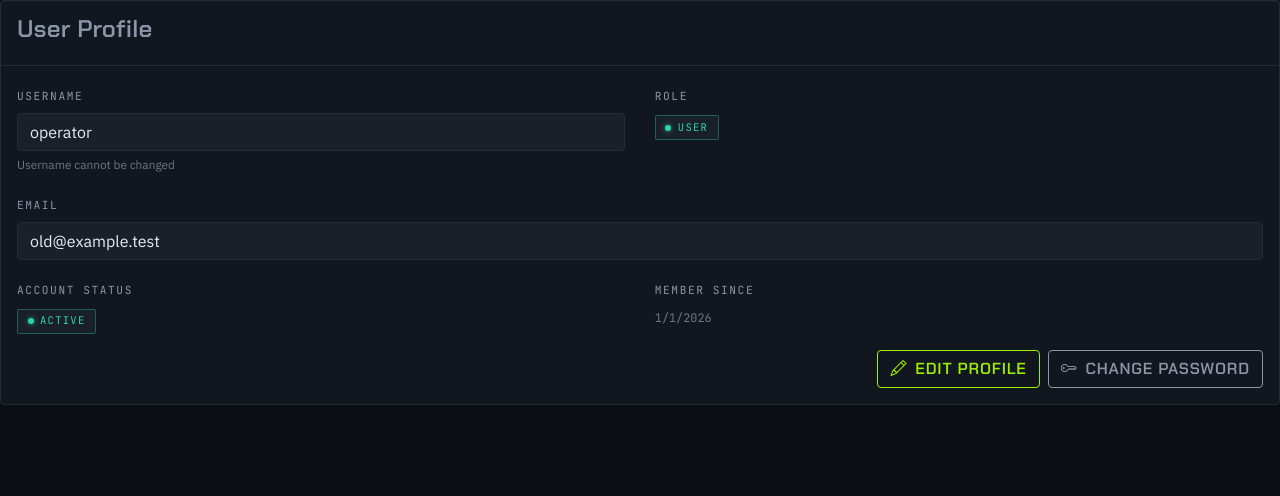
UserProfile › owns an email draft and only leaves edit mode after a successful update
The image size is (1280, 496).
Step 1. Click the button "Edit Profile" → (959, 369), box [878,350,1040,388]
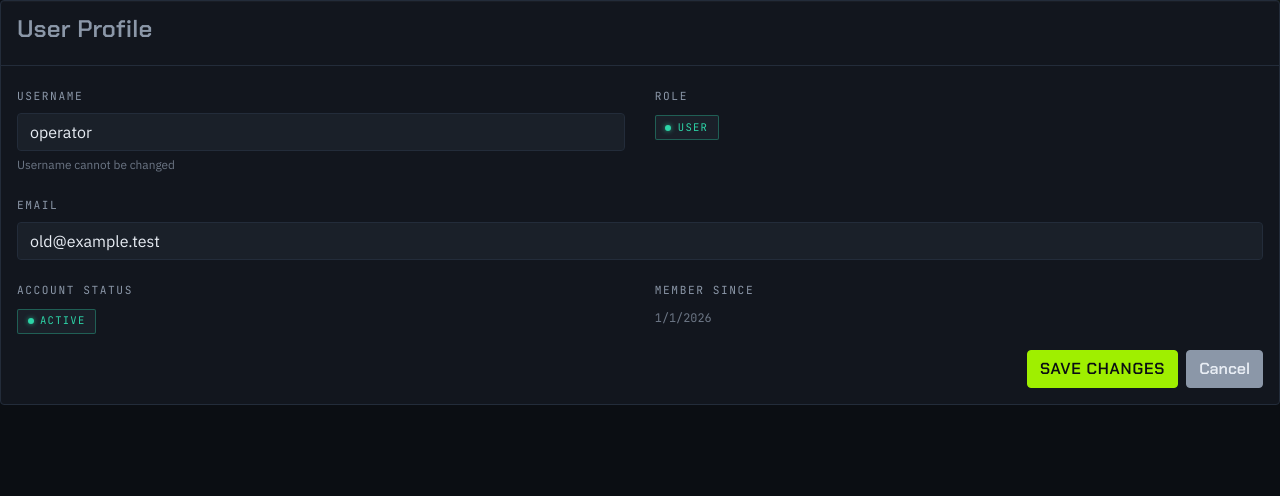
Step 2. Replace the text in the field labelled "Email" with "new@example.test" → (640, 241), box [17,222,1263,260]
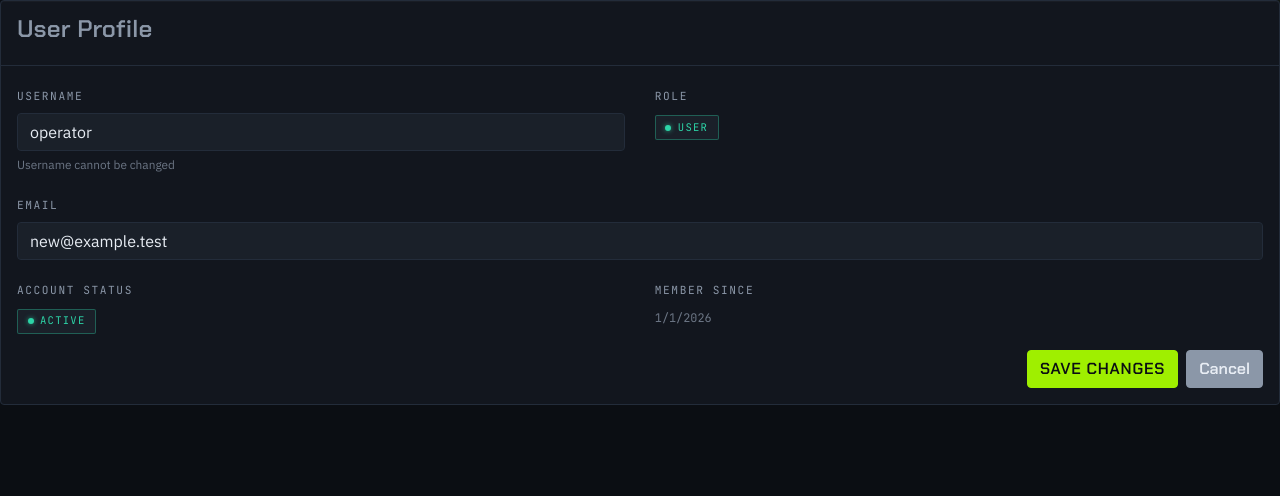
Step 3. Click the button "Save Changes" → (1103, 369), box [1027,350,1178,388]
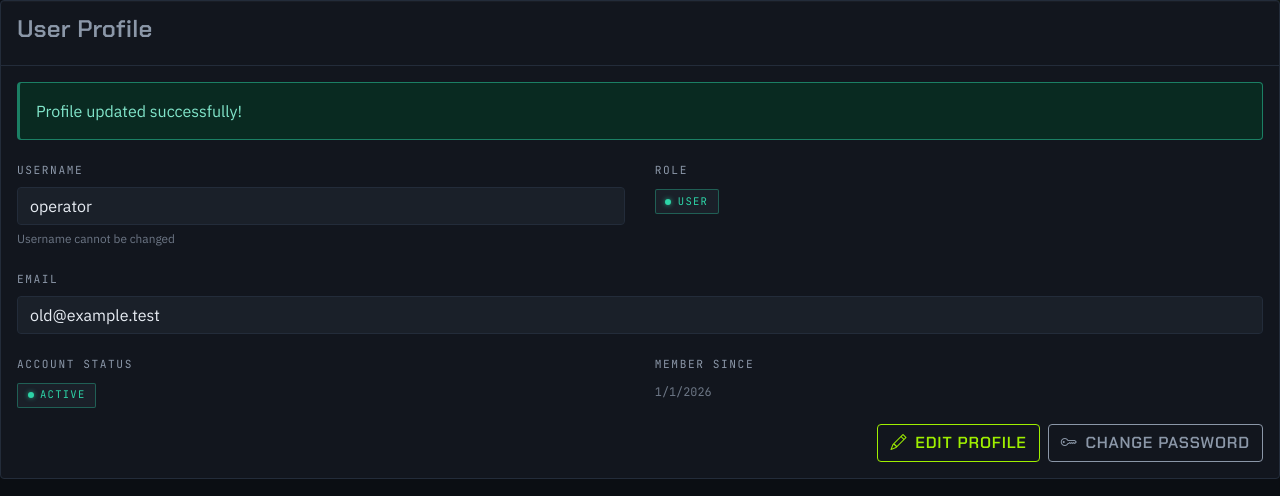
Now the text "Profile updated successfully!" is shown, box [17,82,1263,140]
Now the button "Edit Profile" is shown, box [878,424,1040,462]
